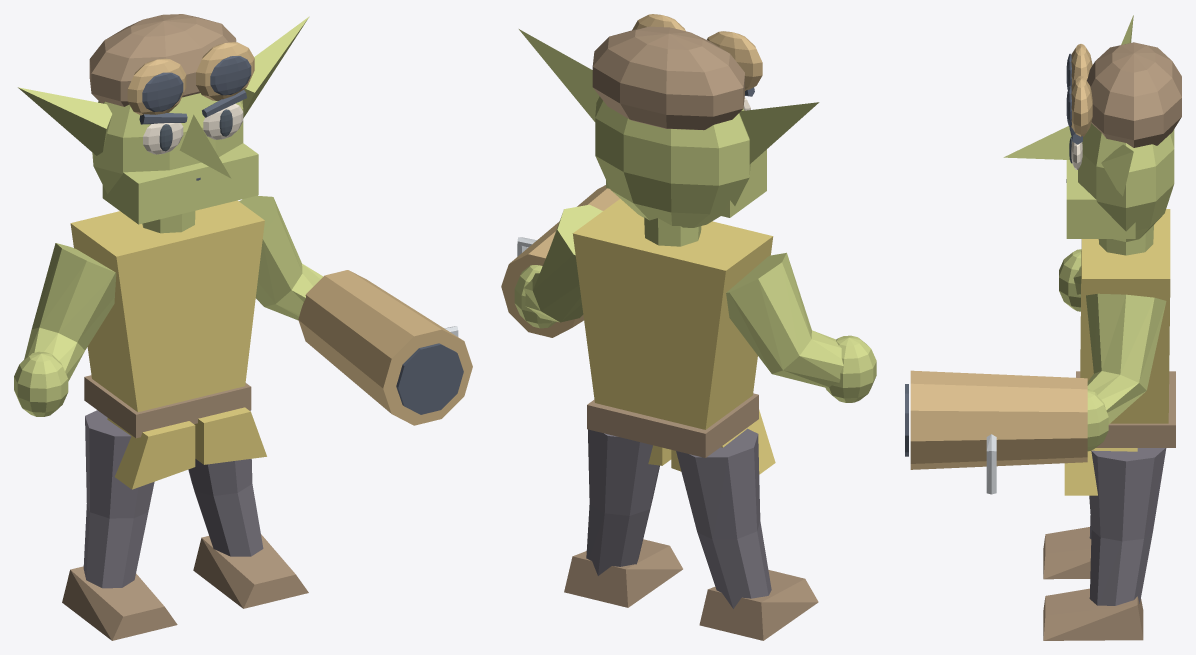
The model's file is rivet-shooter.glb.
3 views of the same model, side by side, from view 1: azimuth 30°, elevation 25°; view 2: azimuth 150°, elevation 25°; view 3: azimuth 270°, elevation 25° (orthographic). The views are drawn at different scales.
Parts seen in each view (by area): view 1: torso, launcher_barrel, leg_-1, arm_-1, leather_cap, jaw, head, leg_1, foot_-1, foot_1, arm_1, belt (+14 smaller); view 2: torso, head, leather_cap, leg_-1, arm_-1, leg_1, belt, foot_-1, foot_1, arm_1, launcher_barrel, hand_-1 (+8 smaller); view 3: launcher_barrel, leg_1, torso, leather_cap, arm_1, head, foot_1, jaw, foot_-1, belt, tunic_hem_1, nose (+7 smaller).
Part boxes in pixels (x1=…): torso: x1=70, y1=200, x2=264, y2=412; launcher_barrel: x1=298, y1=270, x2=472, y2=425; leg_-1: x1=83, y1=410, x2=154, y2=588; arm_-1: x1=24, y1=243, x2=116, y2=381; leather_cap: x1=89, y1=14, x2=236, y2=106; jaw: x1=102, y1=143, x2=258, y2=224; head: x1=92, y1=93, x2=243, y2=193; leg_1: x1=188, y1=410, x2=263, y2=556; foot_-1: x1=62, y1=566, x2=177, y2=640; foot_1: x1=193, y1=534, x2=308, y2=608; arm_1: x1=239, y1=195, x2=323, y2=320; belt: x1=84, y1=375, x2=251, y2=438; torso: x1=572, y1=199, x2=773, y2=429; head: x1=595, y1=96, x2=750, y2=227; leather_cap: x1=592, y1=26, x2=744, y2=130; leg_-1: x1=676, y1=428, x2=771, y2=608; arm_-1: x1=726, y1=252, x2=843, y2=388; leg_1: x1=586, y1=429, x2=659, y2=575; belt: x1=587, y1=393, x2=758, y2=457; foot_-1: x1=699, y1=570, x2=818, y2=640; foot_1: x1=564, y1=539, x2=682, y2=607; arm_1: x1=524, y1=204, x2=602, y2=322; launcher_barrel: x1=501, y1=185, x2=620, y2=337; hand_-1: x1=825, y1=335, x2=876, y2=402; launcher_barrel: x1=910, y1=370, x2=1087, y2=469; leg_1: x1=1089, y1=448, x2=1166, y2=605; torso: x1=1080, y1=209, x2=1170, y2=423; leather_cap: x1=1087, y1=42, x2=1181, y2=147; arm_1: x1=1086, y1=293, x2=1166, y2=424; head: x1=1078, y1=123, x2=1174, y2=241; foot_1: x1=1043, y1=588, x2=1143, y2=640; jaw: x1=1066, y1=160, x2=1135, y2=238; foot_-1: x1=1043, y1=527, x2=1091, y2=579; belt: x1=1076, y1=371, x2=1175, y2=447; tunic_hem_1: x1=1064, y1=448, x2=1137, y2=495; nose: x1=1003, y1=126, x2=1071, y2=159.
Bounding box in the file's own units: 0.7694 × 1.05 × 0.4868.
